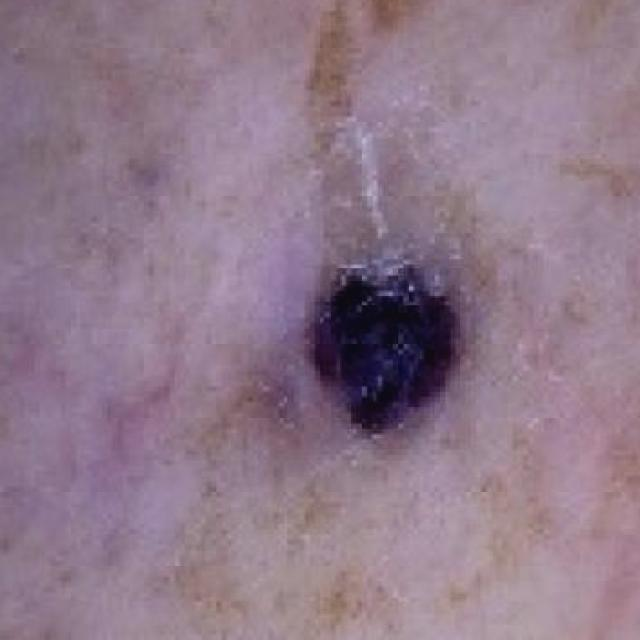VASC: (198, 215, 528, 584)
